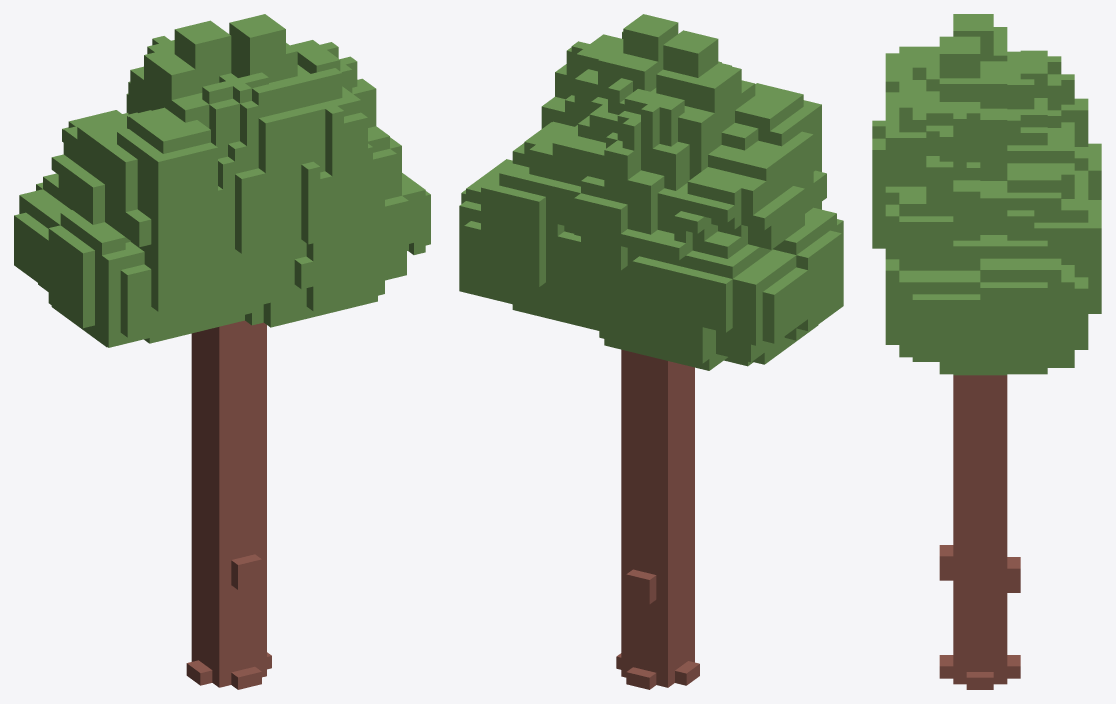
File: arvores-1.obj
3 renders of one model, left to right at view 1: azimuth 30°, elevation 25°; view 2: azimuth 150°, elevation 25°; view 3: azimuth 270°, elevation 25°, orthographic. The views are drawn at different scales.
Size of the model in its own units: 2.8 by 5.2 by 1.7.
1 material, 1 textured.
